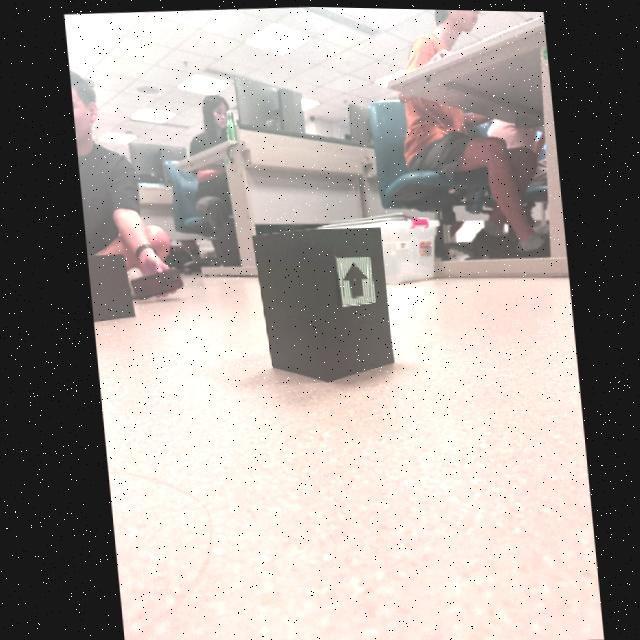UP: (341, 261, 366, 296)
